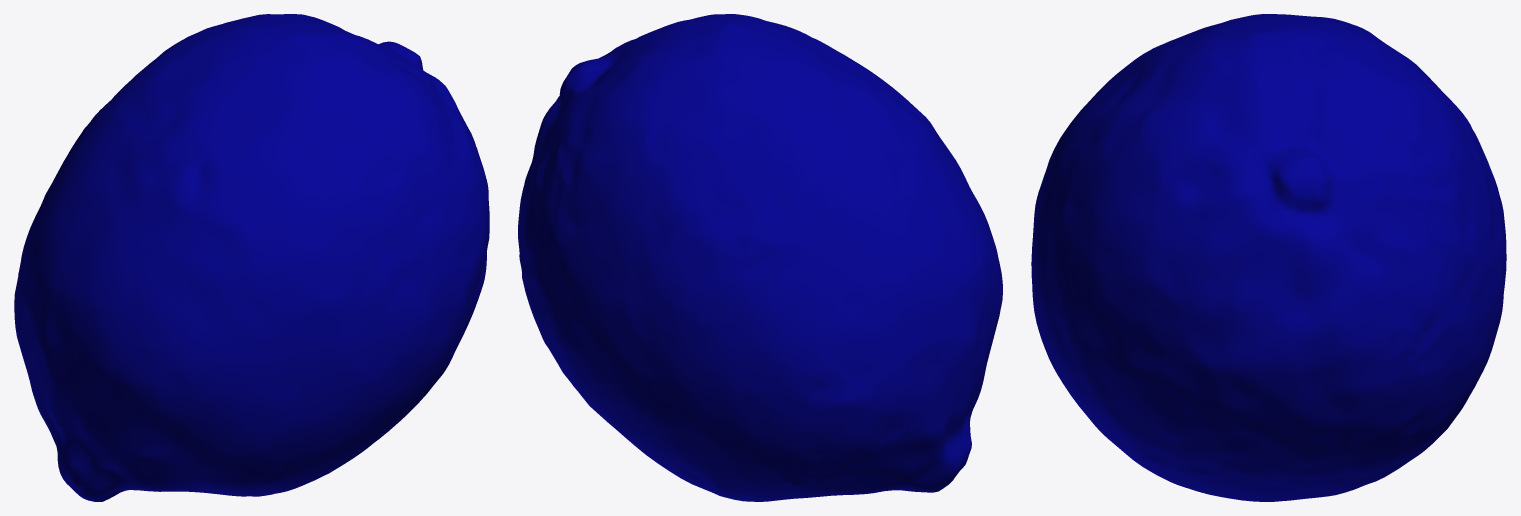
The picture shows the model from 3 angles, left to right: view 1: azimuth 30°, elevation 25°; view 2: azimuth 150°, elevation 25°; view 3: azimuth 270°, elevation 25°; orthographic projection. The views are drawn at different scales.
Bounding box in the file's own units: 0.0606 × 0.0593 × 0.053.
